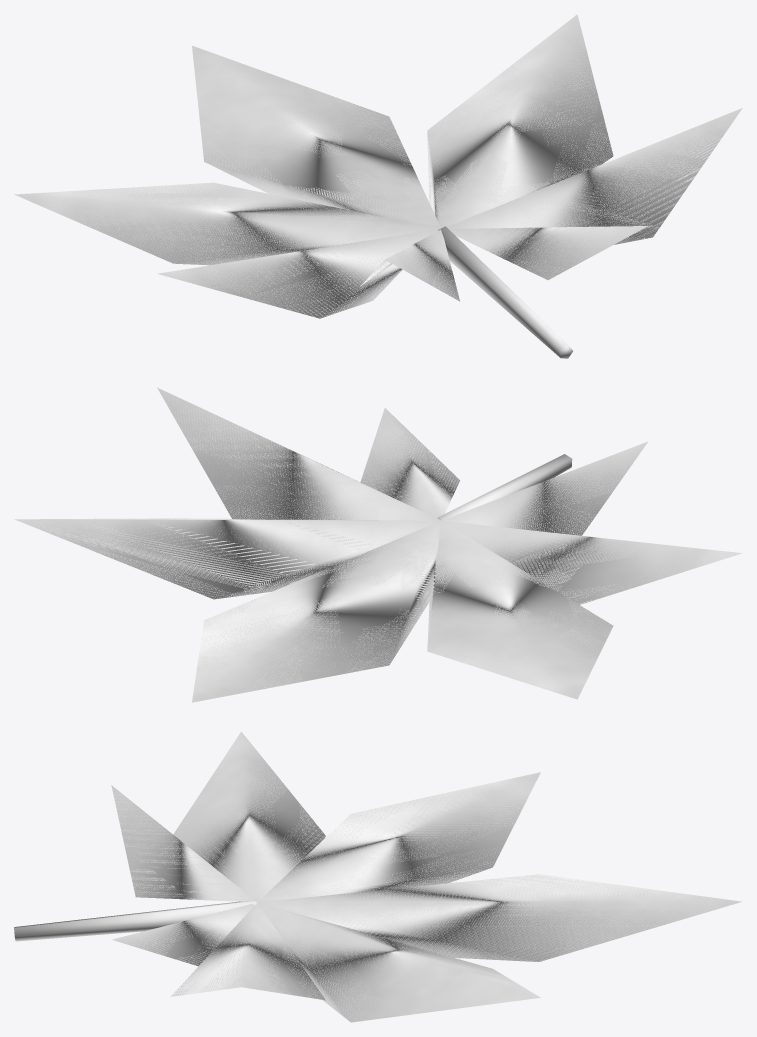
Rendered from fallen_leaf_3d.glb.
The picture shows the model from 3 angles, top to bottom: view 1: azimuth 30°, elevation 25°; view 2: azimuth 150°, elevation 25°; view 3: azimuth 270°, elevation 25°; orthographic projection. The views are drawn at different scales.
Parts seen in each view (by area): view 1: FallenLeaf3D; view 2: FallenLeaf3D; view 3: FallenLeaf3D.
Part boxes in pixels (bbox=[...]): FallenLeaf3D: bbox=[14, 14, 742, 358]; FallenLeaf3D: bbox=[14, 387, 742, 702]; FallenLeaf3D: bbox=[14, 731, 742, 1022].
Bounding box in the file's own units: 0.0759 × 0.0119 × 0.0841.
Materials: 1 (1 with a texture image).
